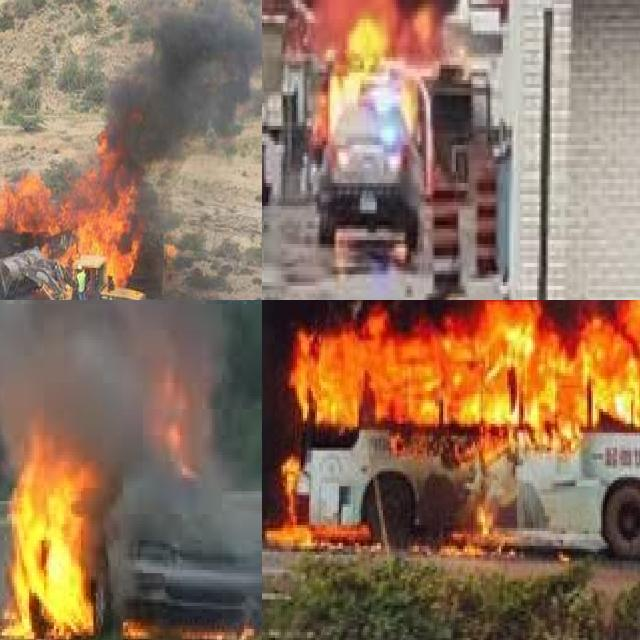fire: (277, 300, 640, 554), (281, 0, 443, 175), (0, 137, 155, 300), (0, 419, 110, 640), (128, 356, 222, 494)
smoke: (0, 300, 217, 465), (106, 2, 262, 165), (113, 478, 262, 557)
